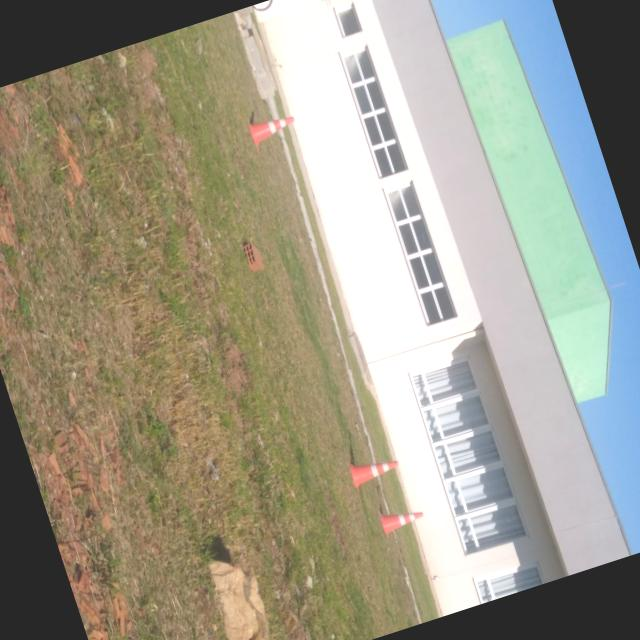cone: (339, 442, 407, 500), (240, 97, 306, 156), (372, 497, 434, 548)
